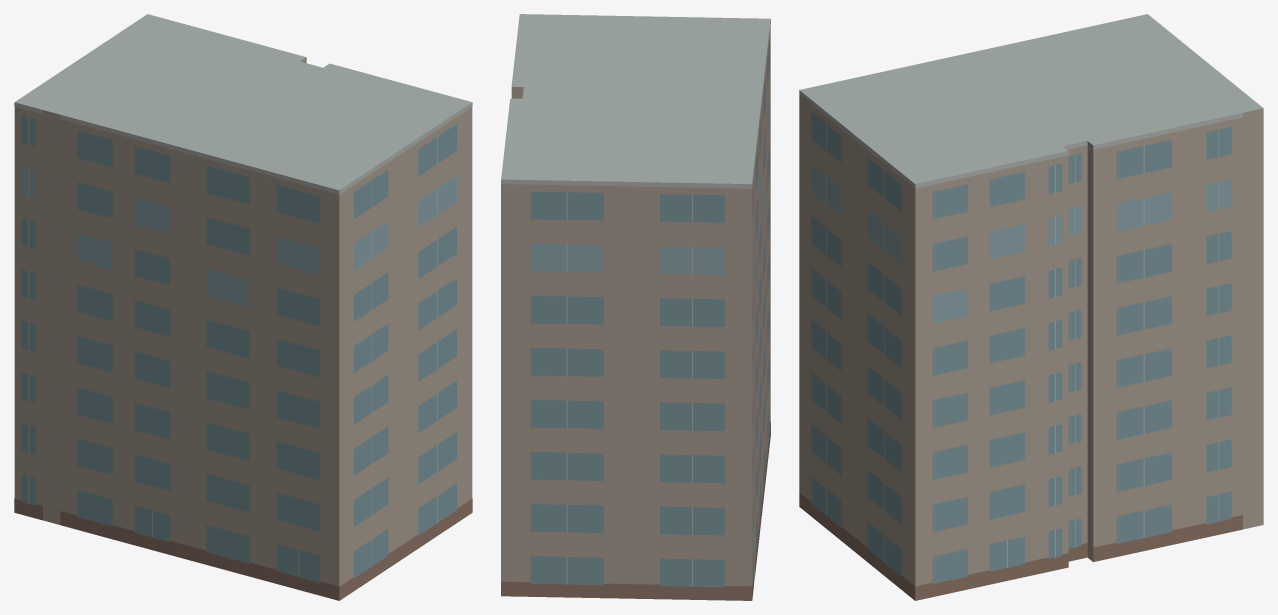
The model's file is survey-upis-32723367.glb.
The picture shows the model from 3 angles, left to right: view 1: azimuth 30°, elevation 25°; view 2: azimuth 150°, elevation 25°; view 3: azimuth 270°, elevation 25°; orthographic projection.
Parts seen in each view (by area): view 1: survey-upis-32723367.tmp; view 2: survey-upis-32723367.tmp; view 3: survey-upis-32723367.tmp.
Part boxes in pixels (bbox=[...]): survey-upis-32723367.tmp: bbox=[14, 14, 472, 600]; survey-upis-32723367.tmp: bbox=[501, 14, 770, 600]; survey-upis-32723367.tmp: bbox=[799, 14, 1263, 600].
Bounding box in the file's own units: 19.71 × 22.5 × 22.73.
